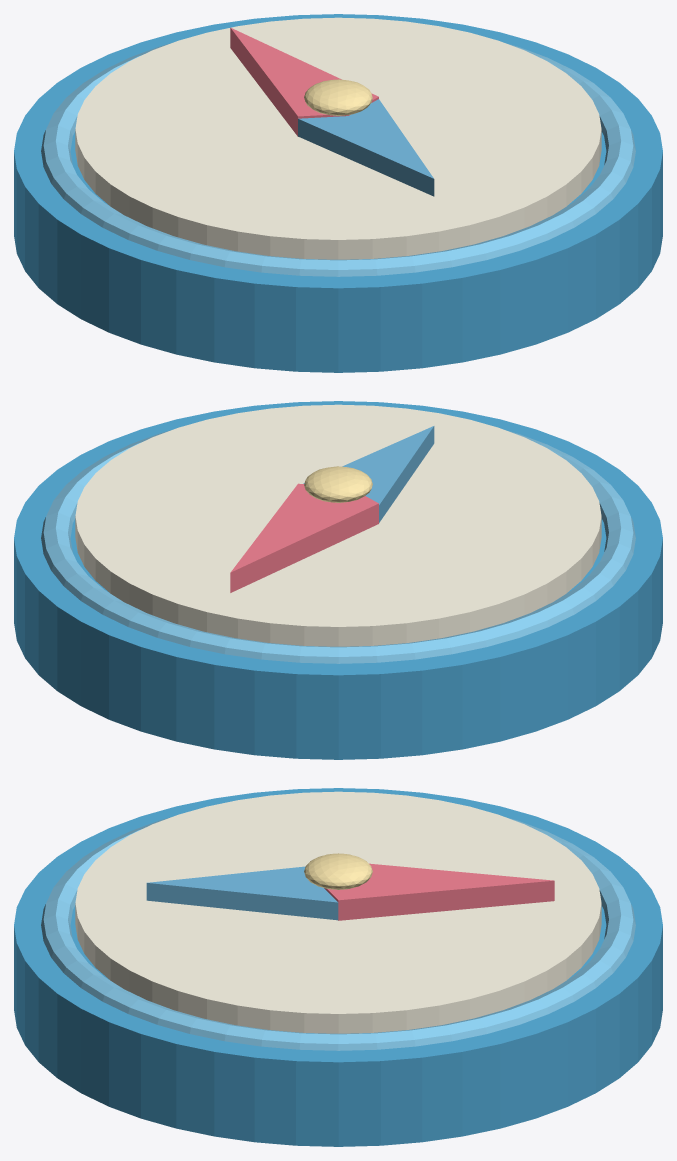
File: token_compass.glb
3 views of the same model, one above another, from view 1: azimuth 30°, elevation 25°; view 2: azimuth 150°, elevation 25°; view 3: azimuth 270°, elevation 25° (orthographic).
Parts seen in each view (by area): view 1: Compass_Ivory_Dial, Compass_Blue_Rim, Compass_Rim_Highlight, Needle_Blue, Needle_Red, Compass_Pivot; view 2: Compass_Ivory_Dial, Compass_Blue_Rim, Compass_Rim_Highlight, Needle_Red, Needle_Blue, Compass_Pivot; view 3: Compass_Ivory_Dial, Compass_Blue_Rim, Compass_Rim_Highlight, Needle_Red, Needle_Blue, Compass_Pivot.
Boxes of the visible parts, x1,y1,x2,y2 form: Compass_Ivory_Dial: [75, 17, 601, 259]; Compass_Blue_Rim: [14, 14, 662, 372]; Compass_Rim_Highlight: [41, 43, 635, 276]; Needle_Blue: [298, 99, 434, 196]; Needle_Red: [230, 27, 378, 136]; Compass_Pivot: [304, 79, 372, 115]; Compass_Ivory_Dial: [75, 404, 601, 646]; Compass_Blue_Rim: [14, 401, 662, 759]; Compass_Rim_Highlight: [41, 430, 635, 663]; Needle_Red: [230, 483, 378, 592]; Needle_Blue: [303, 426, 434, 522]; Compass_Pivot: [304, 466, 372, 502]; Compass_Ivory_Dial: [75, 791, 601, 1033]; Compass_Blue_Rim: [14, 788, 662, 1146]; Compass_Rim_Highlight: [41, 817, 635, 1050]; Needle_Red: [324, 863, 554, 920]; Needle_Blue: [146, 866, 338, 920]; Compass_Pivot: [304, 853, 372, 889].
Bounding box in the file's own units: 1.32 × 0.335 × 1.32.
